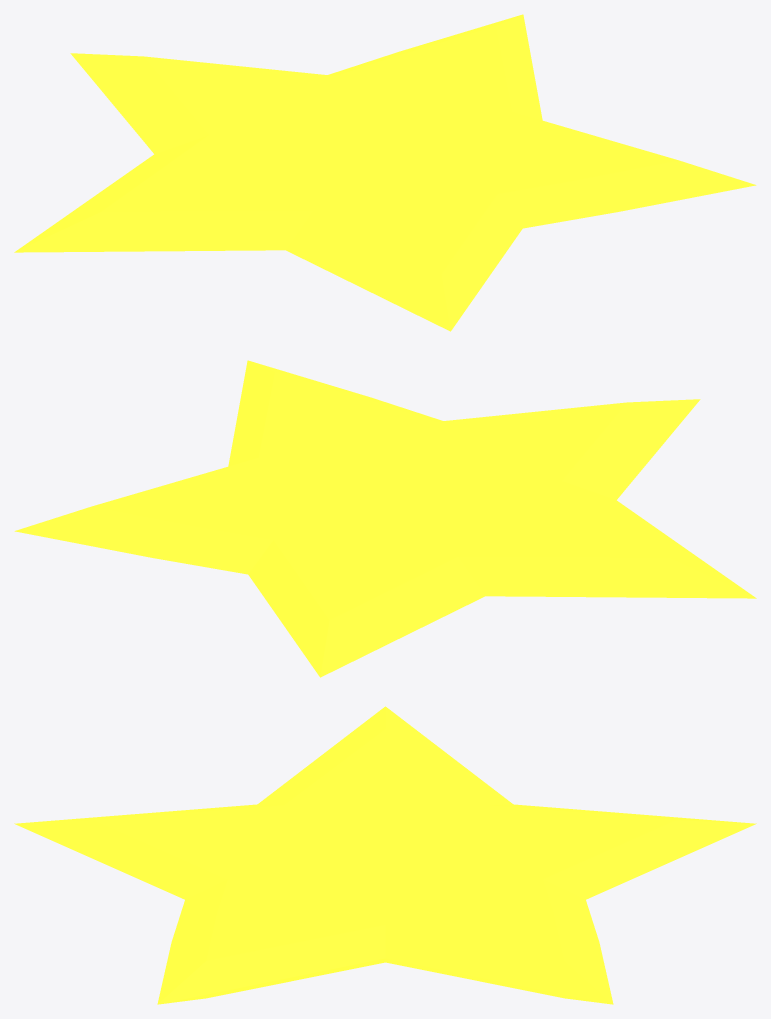
Rendered from star.fbx.
The picture shows the model from 3 angles, top to bottom: view 1: azimuth 30°, elevation 25°; view 2: azimuth 150°, elevation 25°; view 3: azimuth 270°, elevation 25°; orthographic projection. The views are drawn at different scales.
Visible parts, largest first — view 1: star; view 2: star; view 3: star.
Boxes of the visible parts, x1,y1,x2,y2 form: star: [14, 14, 756, 331]; star: [14, 360, 756, 677]; star: [14, 706, 756, 1004].
Bounding box in the file's own units: 230 × 13.53 × 243.
